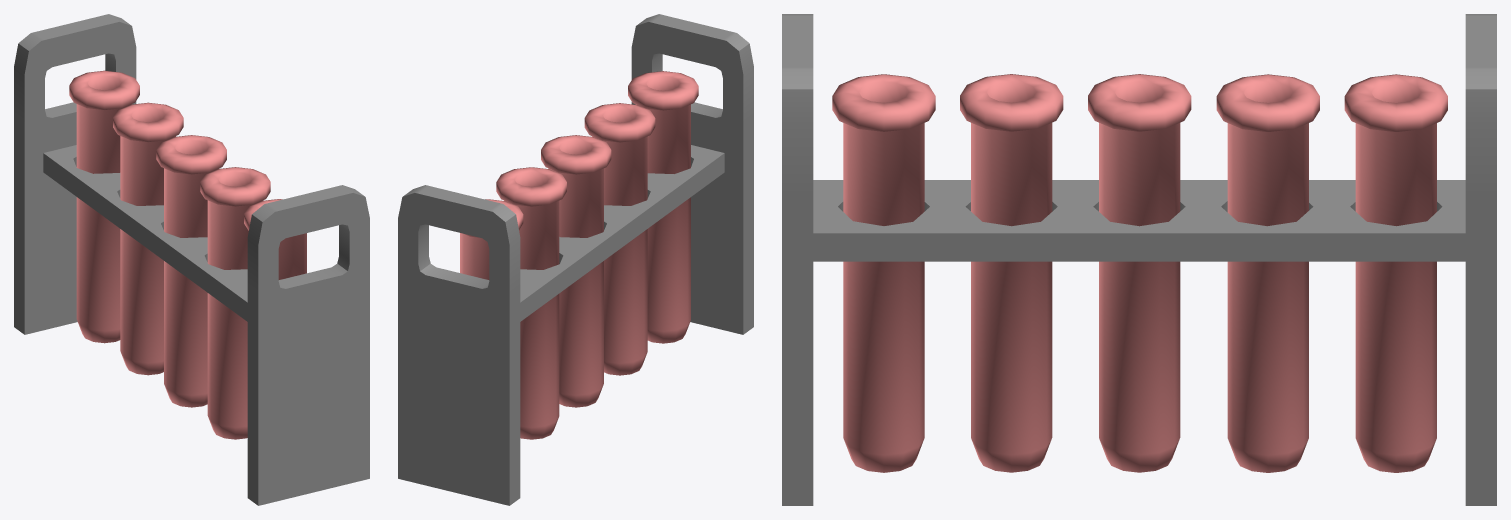
Rendered from LabFlaskSample.fbx.
The picture shows the model from 3 angles, left to right: view 1: azimuth 30°, elevation 25°; view 2: azimuth 150°, elevation 25°; view 3: azimuth 270°, elevation 25°; orthographic projection. The views are drawn at different scales.
Parts seen in each view (by area): view 1: SM_LabFlask_Samples; view 2: SM_LabFlask_Samples; view 3: SM_LabFlask_Samples.
Boxes of the visible parts, x1,y1,x2,y2 form: SM_LabFlask_Samples: (14, 14, 369, 505); SM_LabFlask_Samples: (398, 14, 753, 505); SM_LabFlask_Samples: (782, 14, 1496, 505).
Size of the model in its own units: 9.65 by 24 by 36.64.
